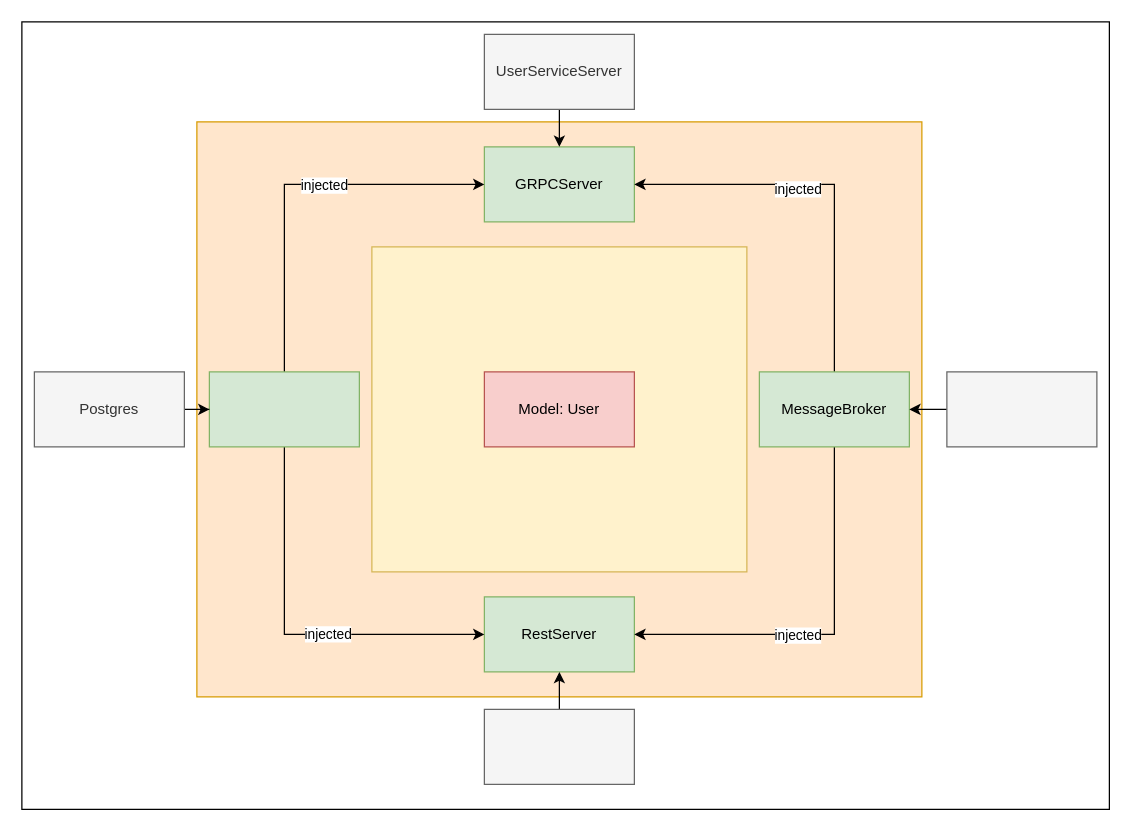
The diagram is 1131 pixels wide and 831 high, and some of its shapes have lost their labels. The shapes that lost their labels are listed below. From the top down, each one's box as (x1, y1, x2, y2) in pixels, then its label:
(208, 371, 359, 447): Database
(946, 371, 1097, 447): RabbitMQ
(483, 708, 634, 784): GinServer
